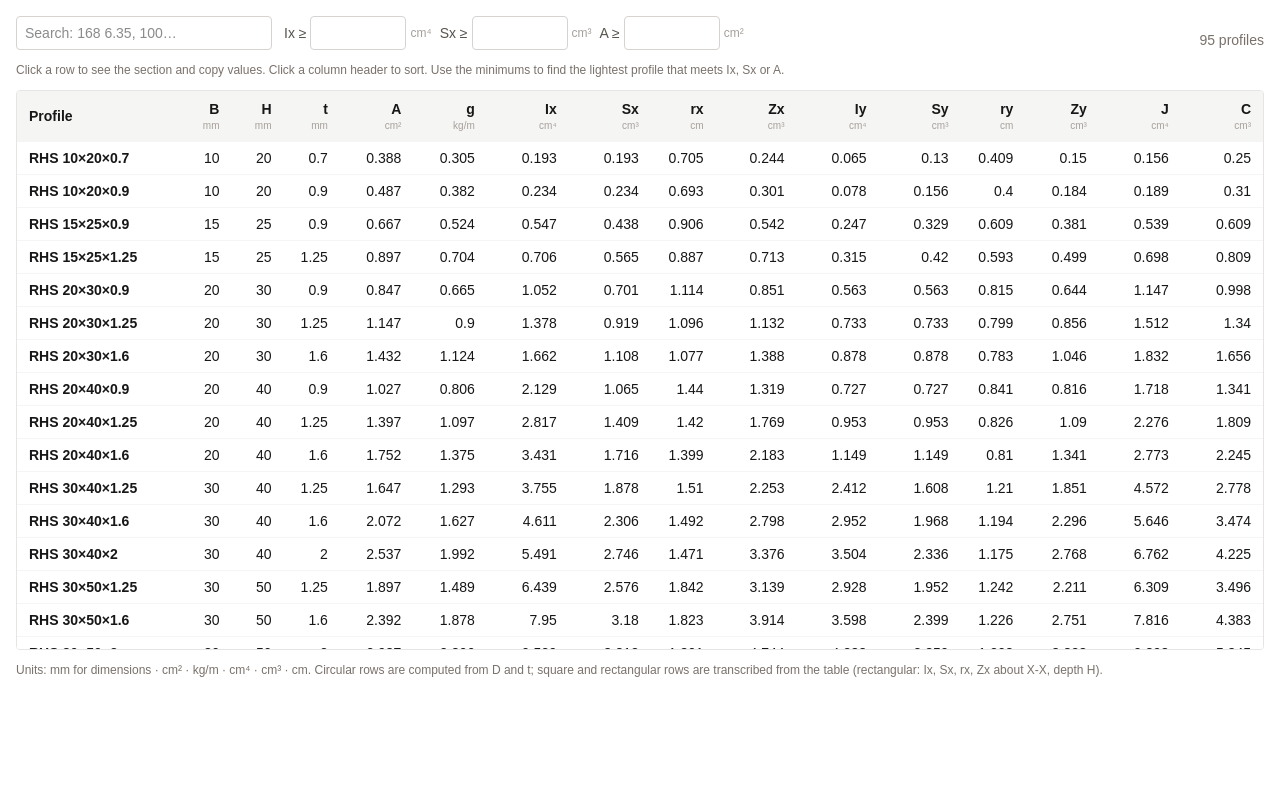
Scenario: TubeExplorer › rectangular list, search and detail with B, H, t, R
The width and height of the screenshot is (1280, 800).
In the search field: (144, 33) [16,16,272,50], type "100 250"
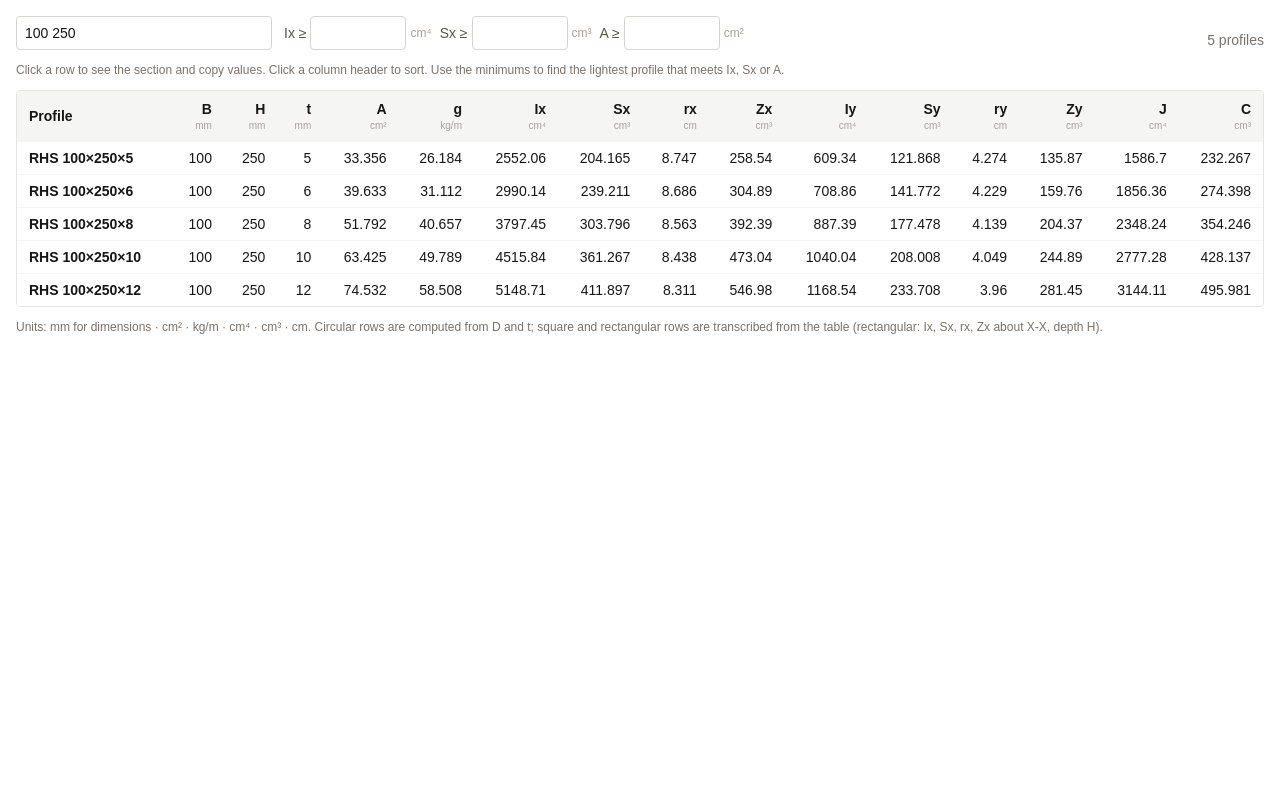
Click the column heading "RHS 100×250×12": (94, 290) [17,274,170,306]
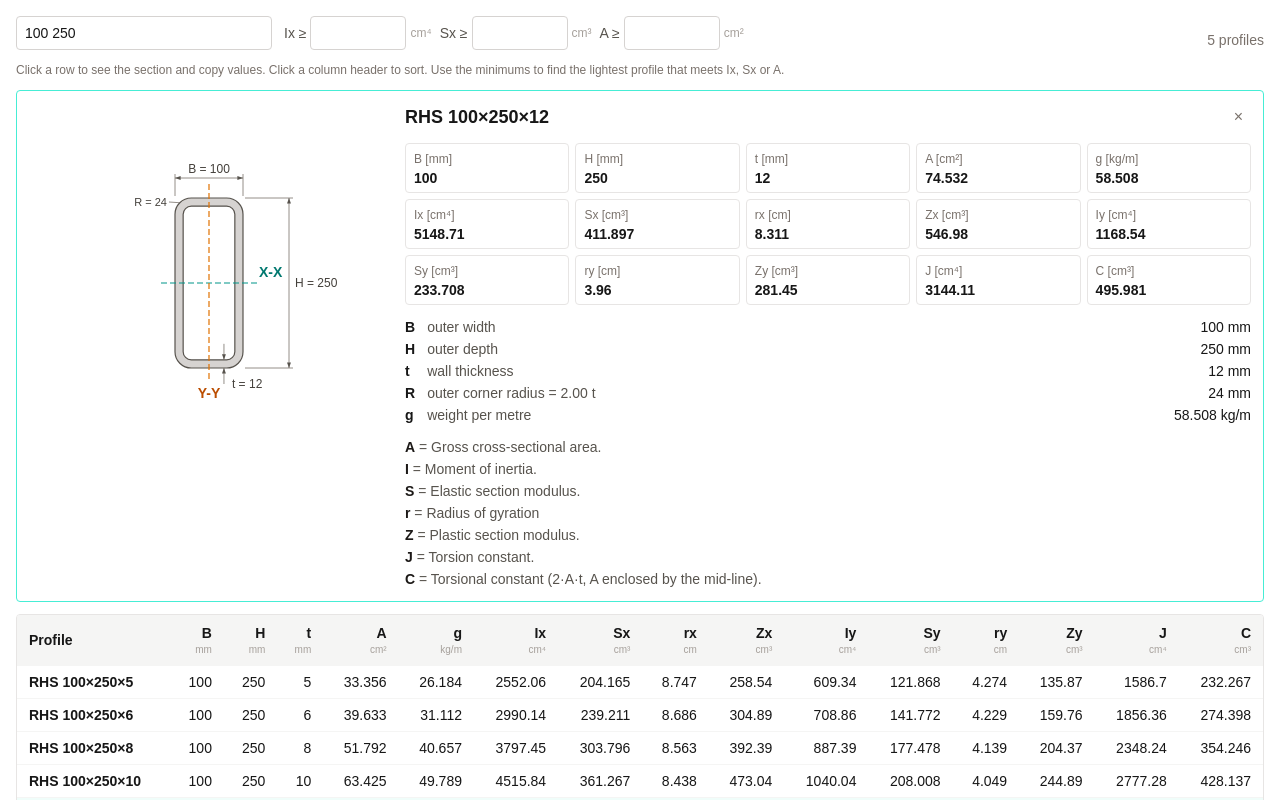
Expected: the picture named "RHS 100×250×12" shows "B = 100", [188,162,230,176]
Expected: the picture named "RHS 100×250×12" shows "H = 250", [29,103,389,463]
Expected: the picture named "RHS 100×250×12" shows "t = 12", [29,103,389,463]
